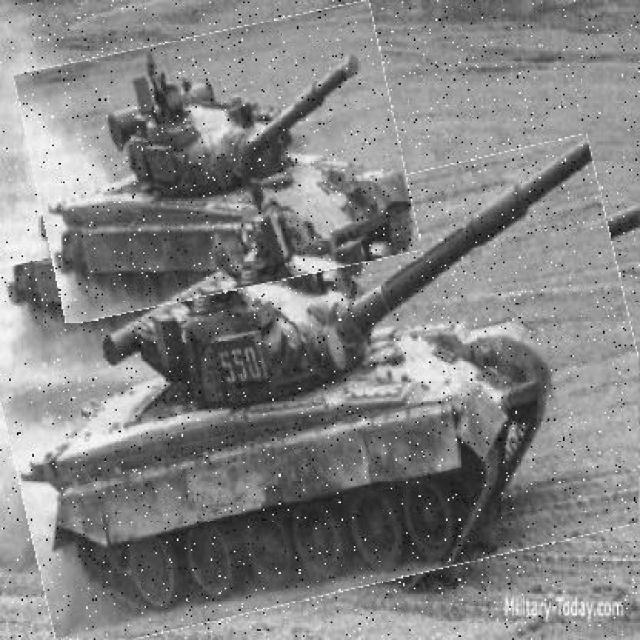Tank: (1, 167, 639, 625), (27, 18, 412, 307)
